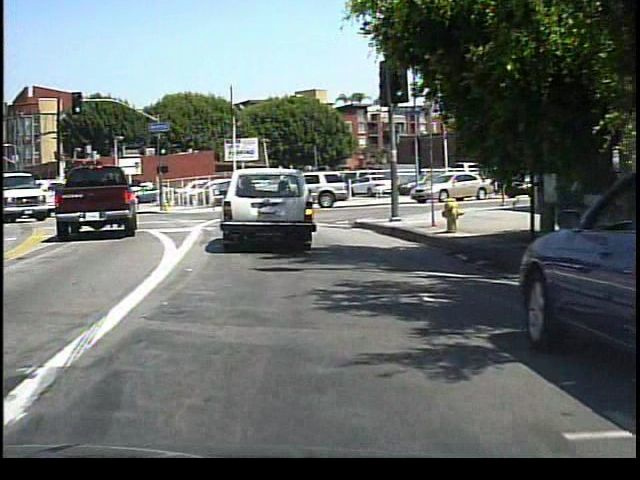person: (389, 165, 407, 203)
